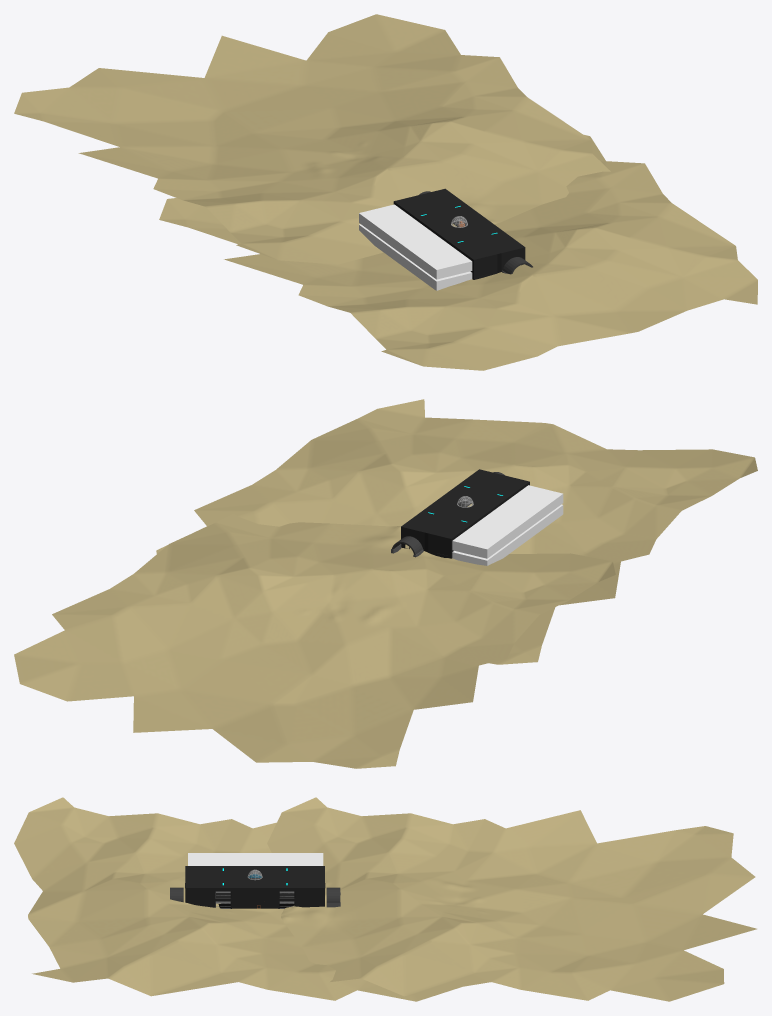
Rendered from Mall_02.glb.
3 renders of one model, top to bottom at view 1: azimuth 30°, elevation 25°; view 2: azimuth 150°, elevation 25°; view 3: azimuth 270°, elevation 25°, orthographic. The views are drawn at different scales.
Parts seen in each view (by area): view 1: model_0.008, model_0.002, Cube.019, Cube; view 2: model_0.008, model_0.002, Cube, Cube.019; view 3: model_0.008, model_0.002, Cube, Cube.019, Cube.027, Cube.004.
Boxes of the visible parts, <box> form: model_0.008: <box>14,14,610,264</box>; model_0.002: <box>159,135,757,370</box>; Cube.019: <box>359,204,472,290</box>; Cube: <box>393,188,525,279</box>; model_0.008: <box>14,514,615,768</box>; model_0.002: <box>156,399,757,664</box>; Cube: <box>401,469,529,558</box>; Cube.019: <box>452,485,563,565</box>; model_0.008: <box>267,797,756,1001</box>; model_0.002: <box>14,797,461,1001</box>; Cube: <box>185,866,324,908</box>; Cube.019: <box>188,853,323,865</box>; Cube.027: <box>170,887,340,907</box>; Cube.004: <box>202,878,307,899</box>.
Size of the model in its own units: 23.87 by 2.66 by 41.42.
